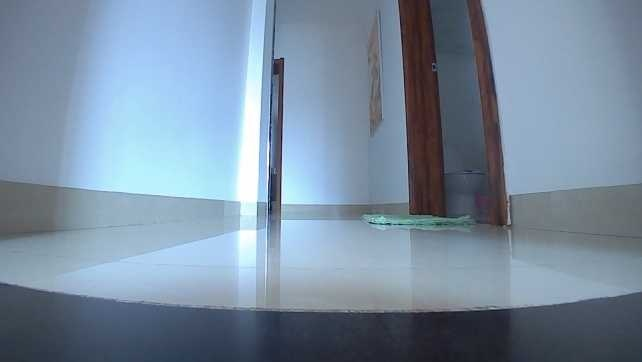blanket: (362, 212, 474, 229)
toilet: (439, 145, 486, 215)
